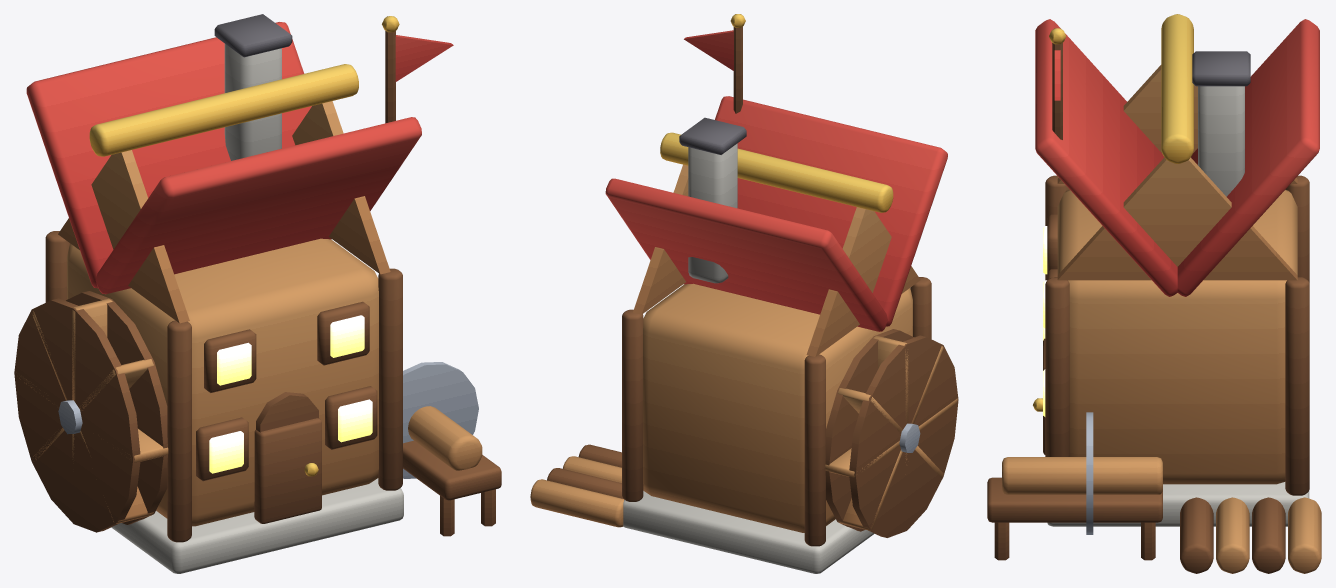
The model's file is millR.glb.
3 views of the same model, side by side, from view 1: azimuth 30°, elevation 25°; view 2: azimuth 150°, elevation 25°; view 3: azimuth 270°, elevation 25° (orthographic). The views are drawn at different scales.
Visible parts, largest first — view 1: millR; view 2: millR; view 3: millR.
Part boxes in pixels (x1,y1,x2,y2): millR: [14, 14, 501, 573]; millR: [530, 14, 958, 573]; millR: [987, 14, 1321, 573].
Bounding box in the file's own units: 1.44 × 1.87 × 1.14.
1 material, 1 textured.
